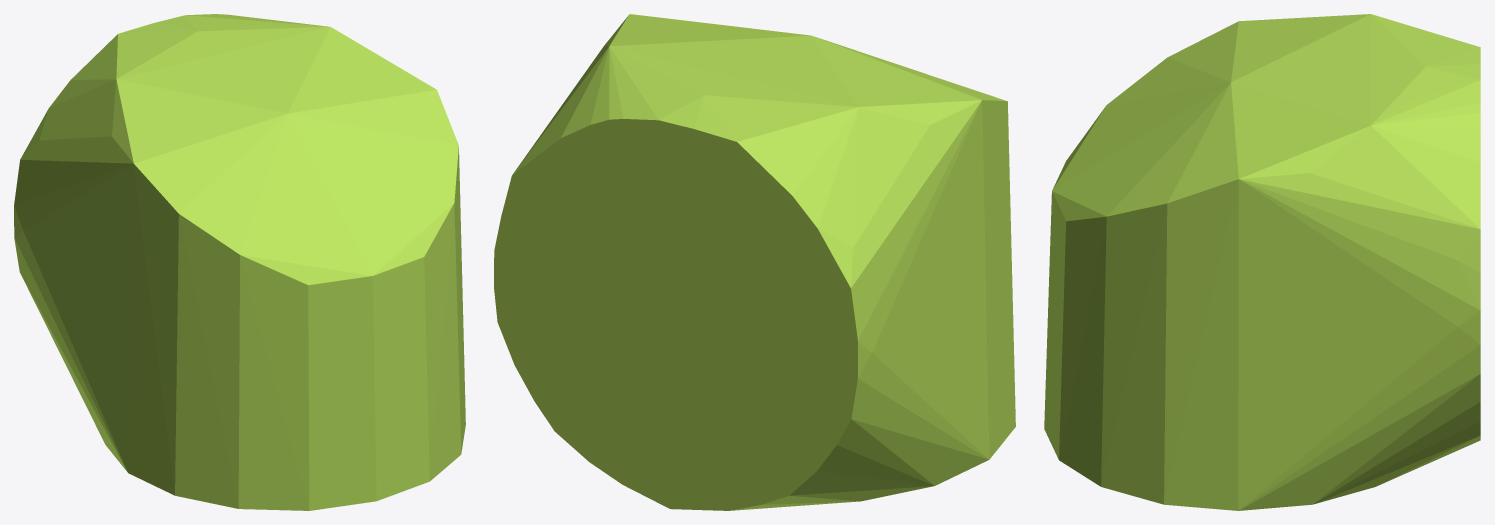
Rendered from ur10e_link_2_coll_1.dae.
The picture shows the model from 3 angles, left to right: view 1: azimuth 30°, elevation 25°; view 2: azimuth 150°, elevation 25°; view 3: azimuth 270°, elevation 25°; orthographic projection. The views are drawn at different scales.
Parts seen in each view (by area): view 1: node; view 2: node; view 3: node.
Part boxes in pixels (<box>): node: <box>14,14,465,510</box>; node: <box>494,14,1015,510</box>; node: <box>1044,14,1480,510</box>.
Size of the model in its own units: 0.1167 by 0.1194 by 0.1304.
